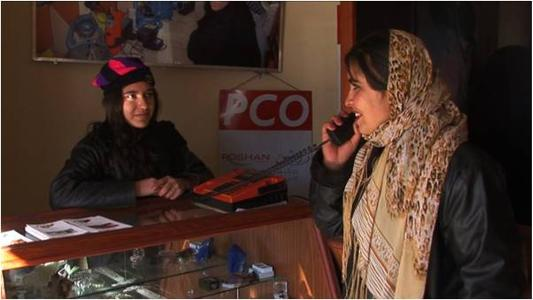person: (315, 27, 518, 296)
